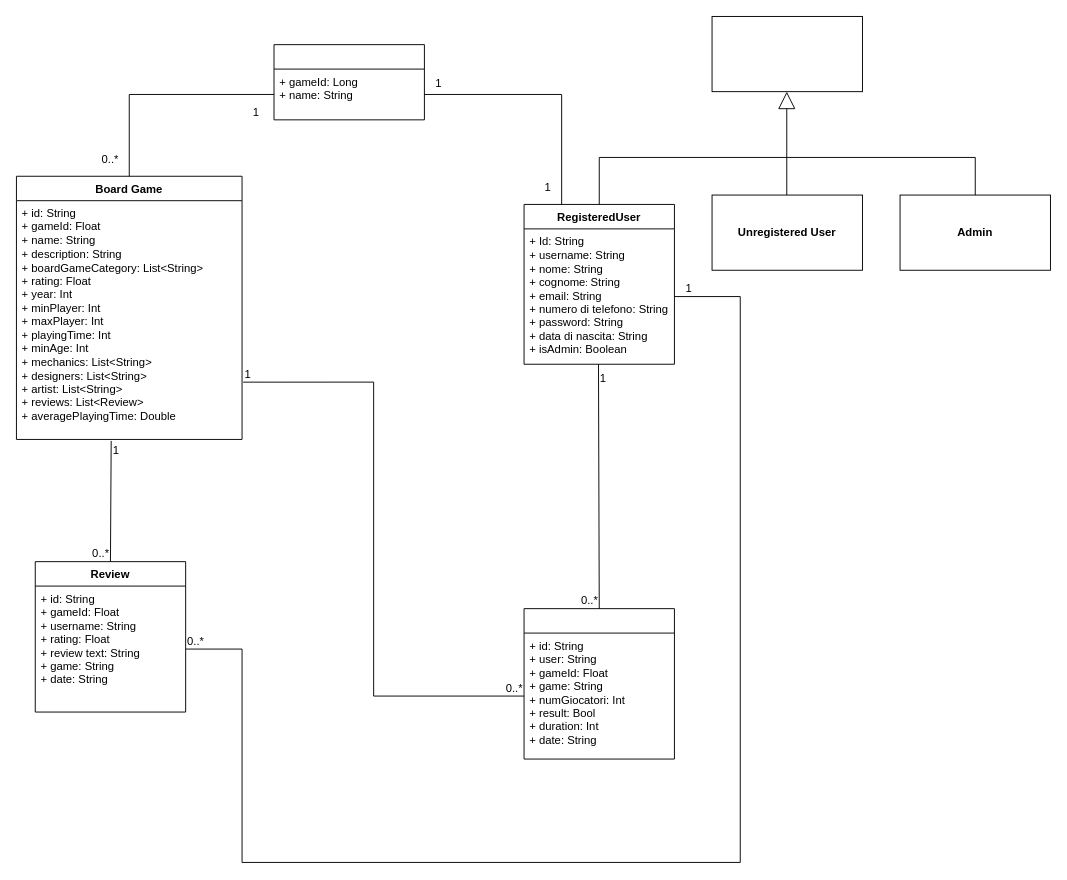
Image size: 1067x880. Some labels were removed from this diagram. The shapes that lost their labels are listed below. From the top down, each one's box as (x1, y1, x2, y2) in pixels, then its label:
(711, 16, 862, 92): User
(273, 44, 424, 120): Library
(523, 608, 674, 759): Match
